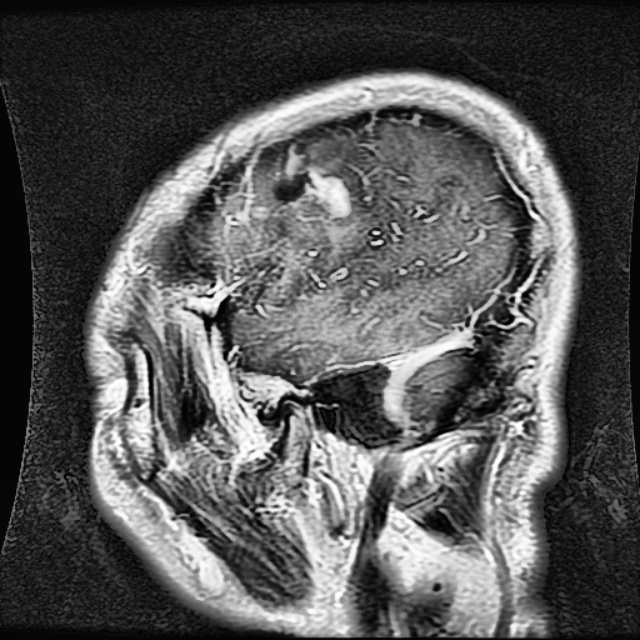Meningioma: (280, 168, 350, 217)
